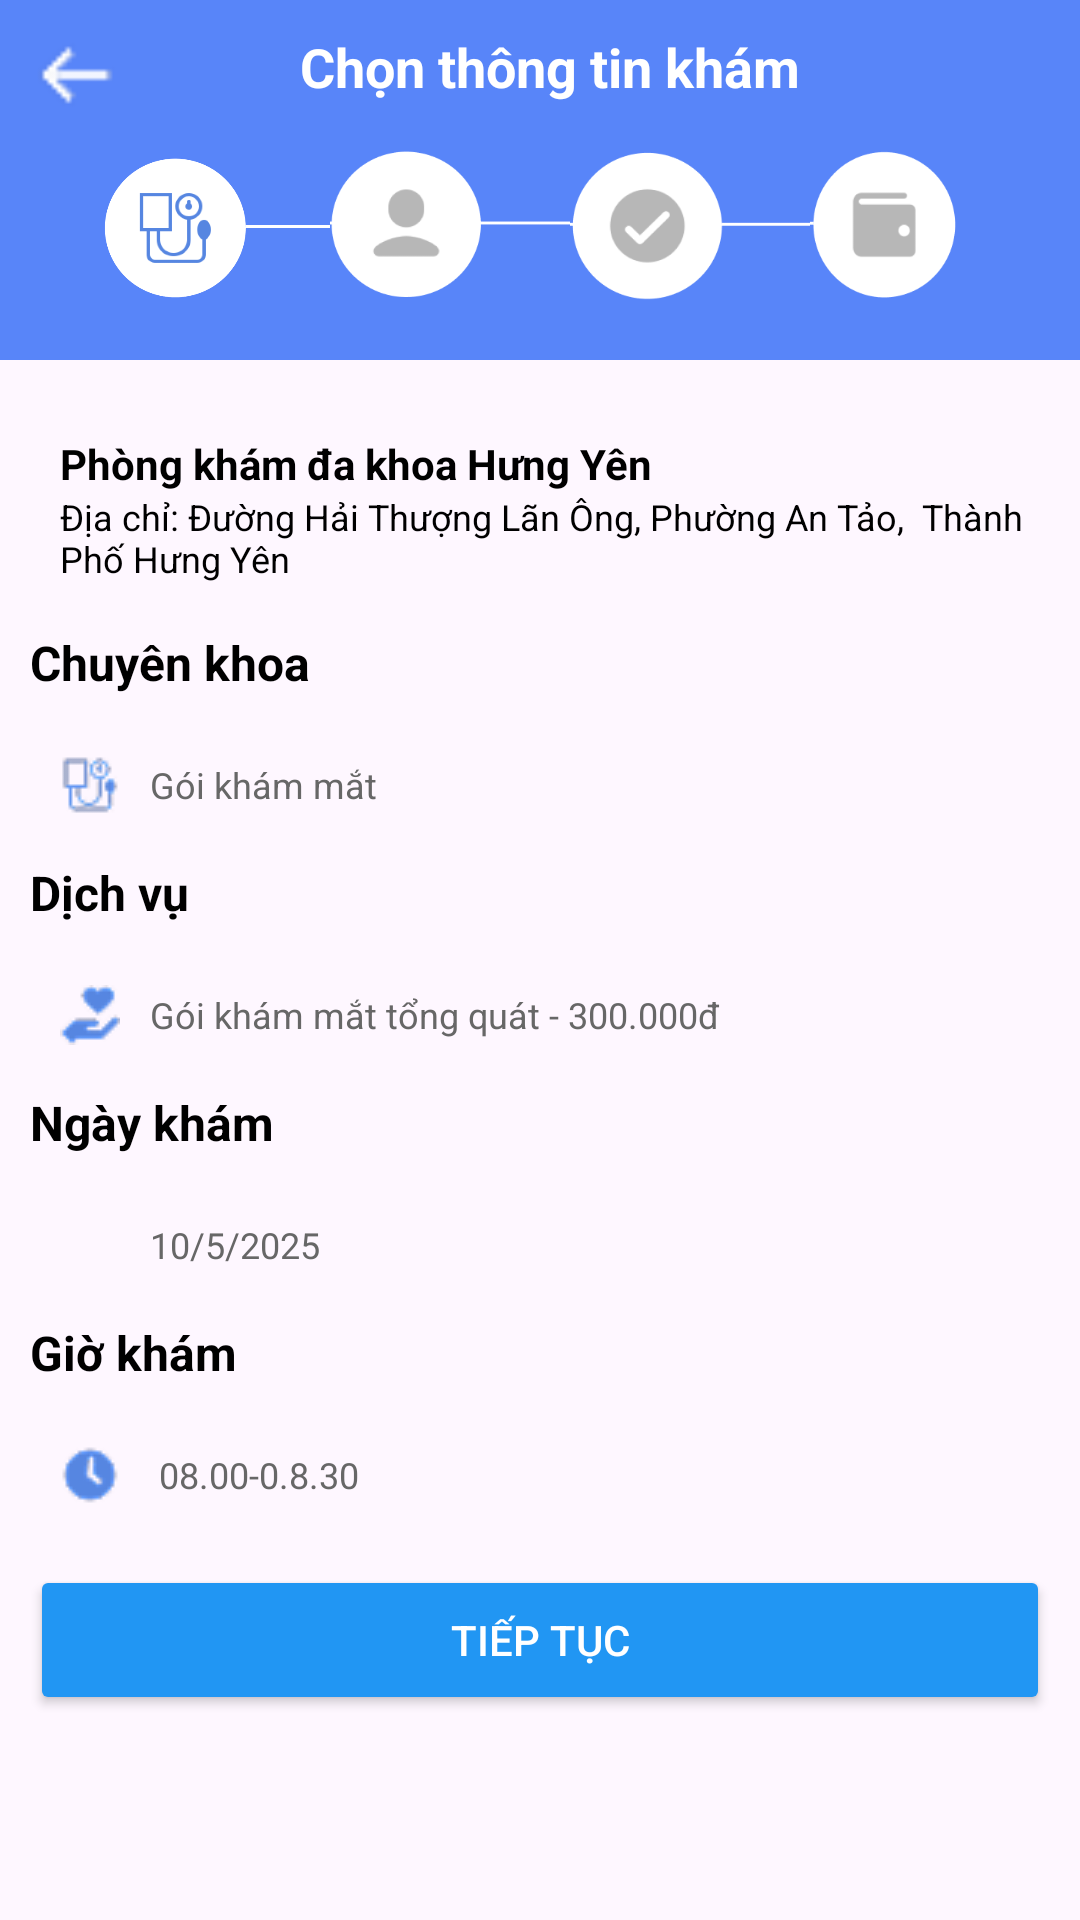

Screen size 1080*1920. Icon name, then its center in pixels as [x,y]:
left: [76,75]
trust: [90,1015]
